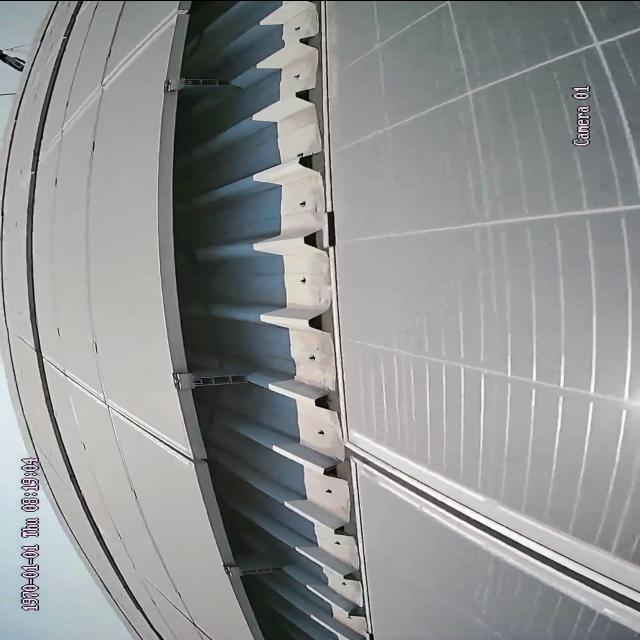interior panel: (376, 437, 640, 633), (49, 5, 170, 153), (51, 354, 182, 463)
outher panel: (159, 0, 378, 640)
